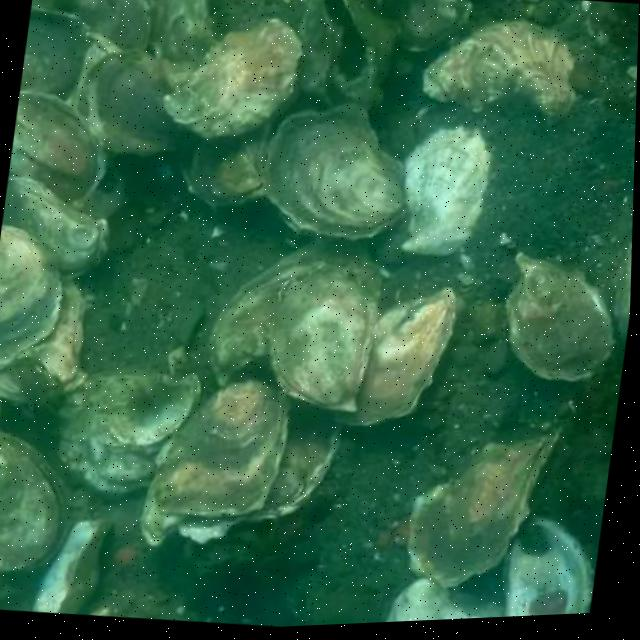Oyster-Closed: (140, 396, 340, 543), (0, 430, 68, 573)
Oyster-Indeterminate: (210, 236, 381, 385), (409, 432, 559, 588), (155, 363, 288, 516), (263, 101, 408, 236), (60, 374, 199, 495), (335, 291, 456, 425), (167, 17, 303, 135), (270, 264, 377, 413), (424, 21, 575, 121), (508, 255, 615, 380), (73, 52, 197, 154), (403, 123, 493, 254), (8, 91, 106, 208), (0, 274, 86, 399), (2, 179, 107, 275), (0, 225, 60, 366), (190, 114, 273, 209), (19, 7, 90, 94), (385, 576, 481, 622), (77, 0, 153, 51), (154, 0, 213, 63), (396, 0, 471, 47)
